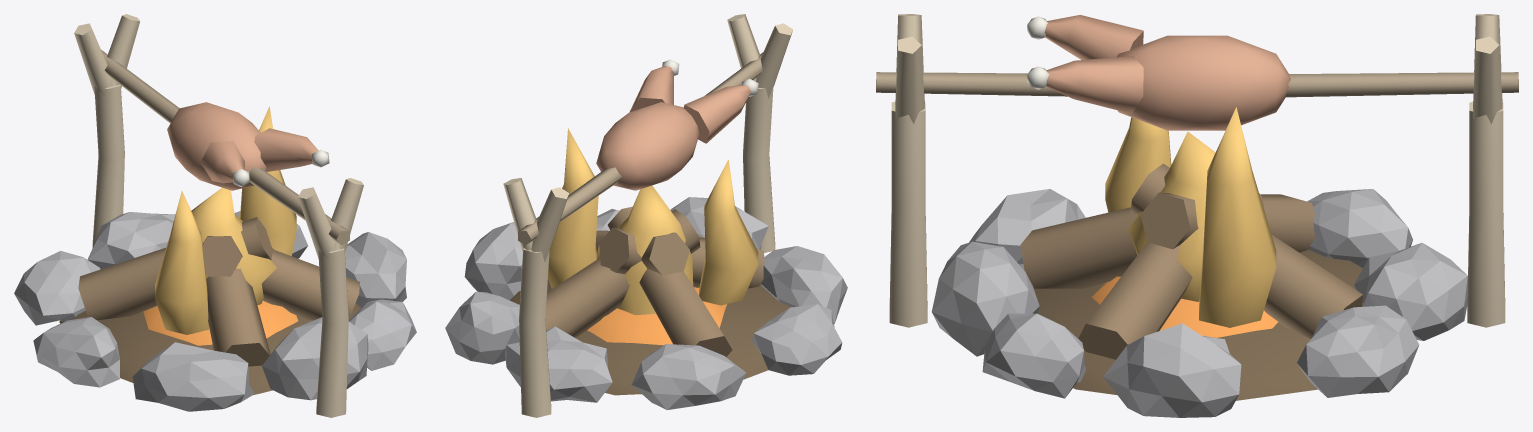
The model's file is building.firepit.glb.
The picture shows the model from 3 angles, left to right: view 1: azimuth 30°, elevation 25°; view 2: azimuth 150°, elevation 25°; view 3: azimuth 270°, elevation 25°; orthographic projection. The views are drawn at different scales.
Parts seen in each view (by area): view 1: Stone, Wood, Paint, Flame, Clay, Door, PaintDark, Ember, Bone; view 2: Stone, Paint, Flame, Wood, Clay, Door, Ember, PaintDark; view 3: Stone, Wood, Paint, Clay, Flame, Door, PaintDark, Ember, Bone.
Part boxes in pixels (x1,y1,x2,y2): Stone: (14,211,416,411); Wood: (78,217,359,366); Paint: (74,14,363,417); Flame: (155,106,296,334); Clay: (167,102,318,190); Door: (59,303,360,395); PaintDark: (101,49,349,245); Ember: (143,301,298,345); Bone: (232,149,329,186); Stone: (445,197,847,409); Paint: (503,14,792,417); Flame: (548,128,758,315); Wood: (545,206,764,356); Clay: (596,66,751,190); Door: (510,279,790,395); Ember: (587,287,726,345); PaintDark: (518,52,763,245); Stone: (931,189,1467,417); Wood: (1020,163,1362,359); Paint: (889,14,1505,327); Clay: (1044,15,1290,130); Flame: (1105,107,1276,327); Door: (1034,249,1362,400); PaintDark: (876,72,1518,97); Ember: (1092,276,1277,337); Bone: (1027,16,1049,89).
Size of the model in its own units: 0.8297 by 0.4965 by 0.9905.
